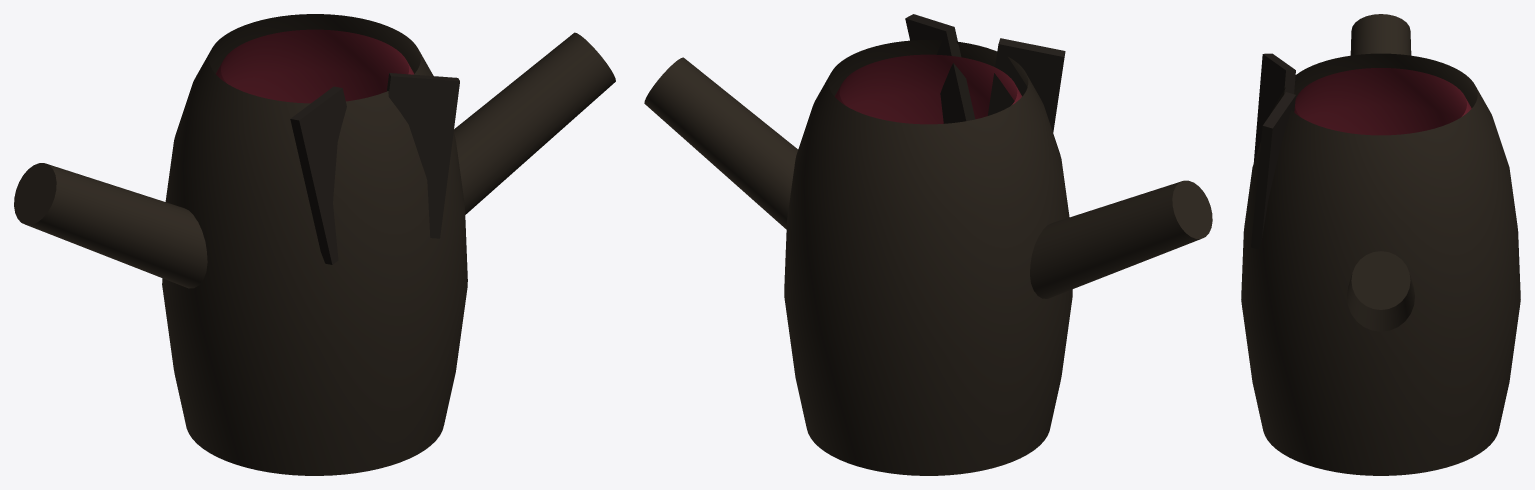
File: jacket.glb
3 views of the same model, side by side, from view 1: azimuth 30°, elevation 25°; view 2: azimuth 150°, elevation 25°; view 3: azimuth 270°, elevation 25° (orthographic). The views are drawn at different scales.
Parts seen in each view (by area): view 1: body, body-sleeve-left, body-sleeve-right, lining, collar-lapel-right, collar; view 2: body, body-sleeve-left, body-sleeve-right, lining, collar, collar-lapel-right; view 3: body, lining, body-sleeve-right, collar-lapel-right, body-sleeve-left, collar.
Part boxes in pixels (box(x1,y1,x2,y2)): body: box(162, 14, 467, 475); body-sleeve-left: box(14, 163, 207, 288); body-sleeve-right: box(453, 32, 615, 214); lining: box(216, 29, 413, 103); collar-lapel-right: box(386, 73, 459, 238); collar: box(290, 86, 346, 264); body: box(784, 40, 1072, 475); body-sleeve-left: box(1030, 180, 1212, 298); body-sleeve-right: box(644, 57, 798, 229); lining: box(834, 54, 1021, 124); collar: box(988, 38, 1065, 132); collar-lapel-right: box(905, 14, 975, 123); body: box(1241, 53, 1520, 475); lining: box(1294, 68, 1471, 135); body-sleeve-right: box(1347, 251, 1414, 331); collar-lapel-right: box(1251, 92, 1295, 249); body-sleeve-left: box(1350, 14, 1411, 55); collar: box(1253, 53, 1295, 162).
Bounding box in the file's own units: 1.15 × 0.7073 × 0.52.
